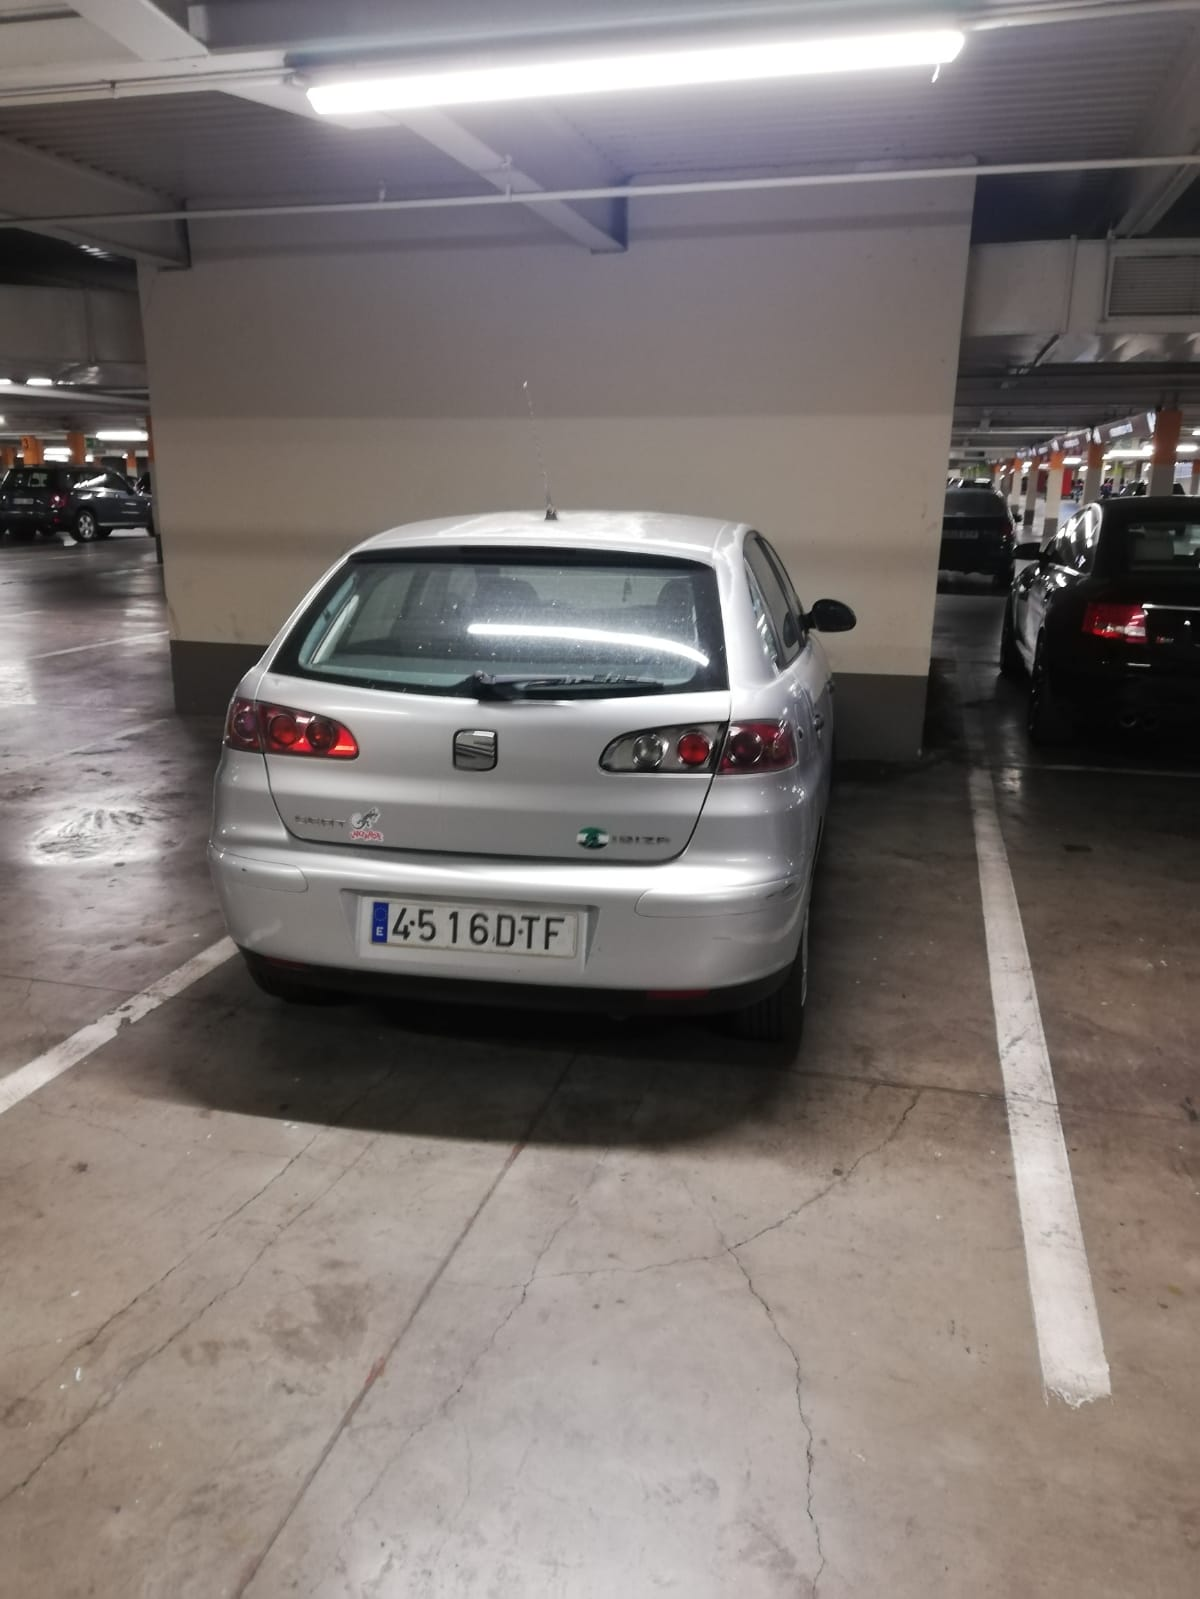Car: (216, 512, 837, 1030)
Plate: (371, 899, 581, 947)
